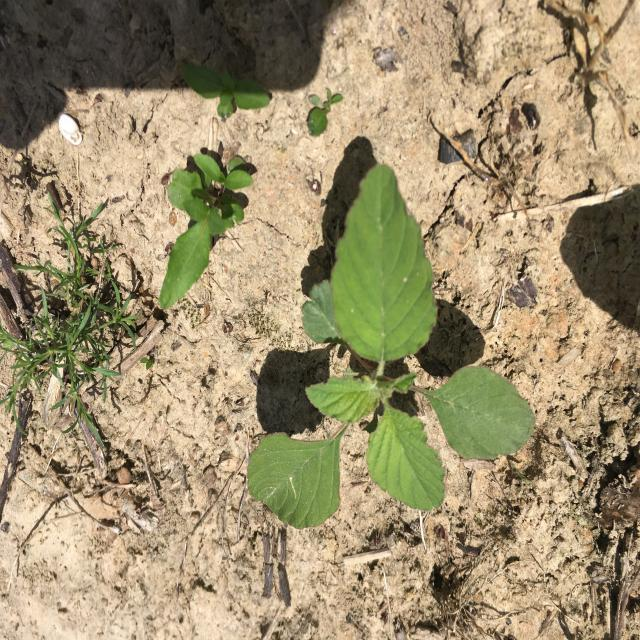Eclipta: (158, 154, 254, 310), (181, 64, 270, 122)
PalmerAmaranth: (247, 163, 536, 530)
